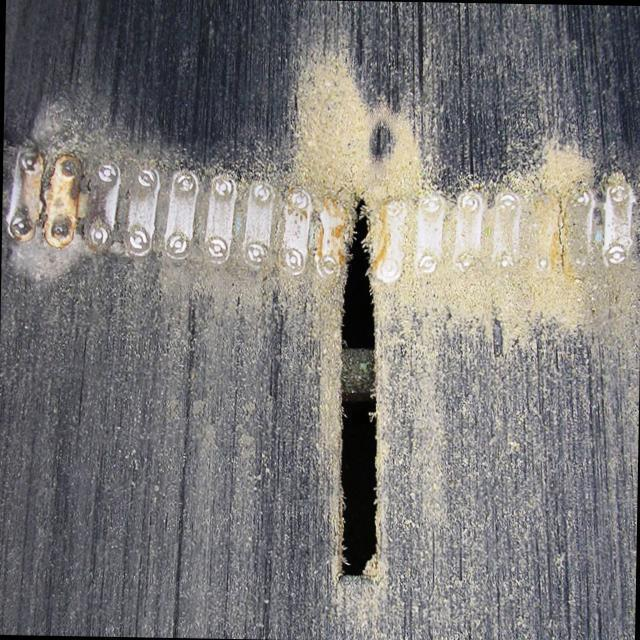Tear: (330, 192, 385, 582)
